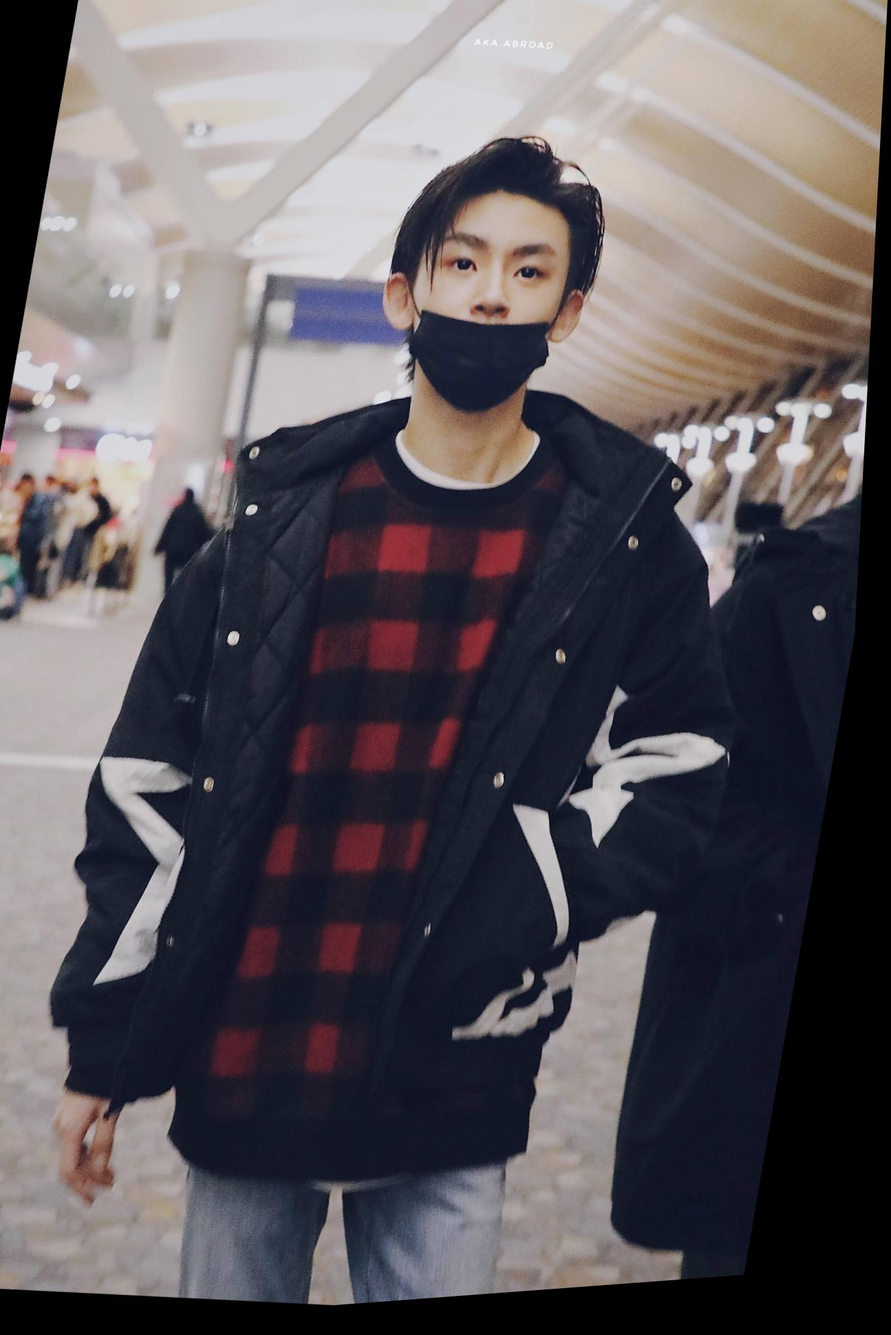WRONG: (400, 210, 579, 429)
